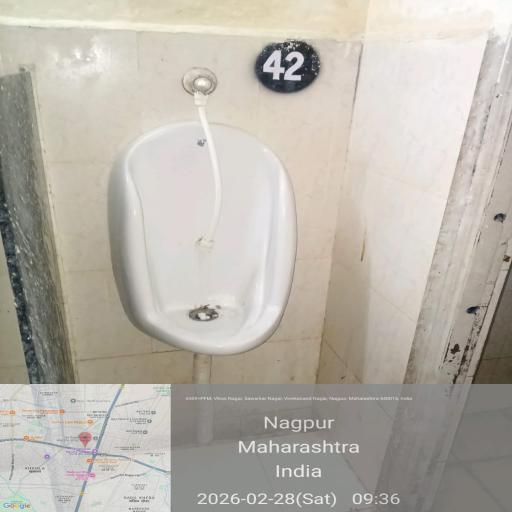clean_urinal: (68, 84, 362, 386)
